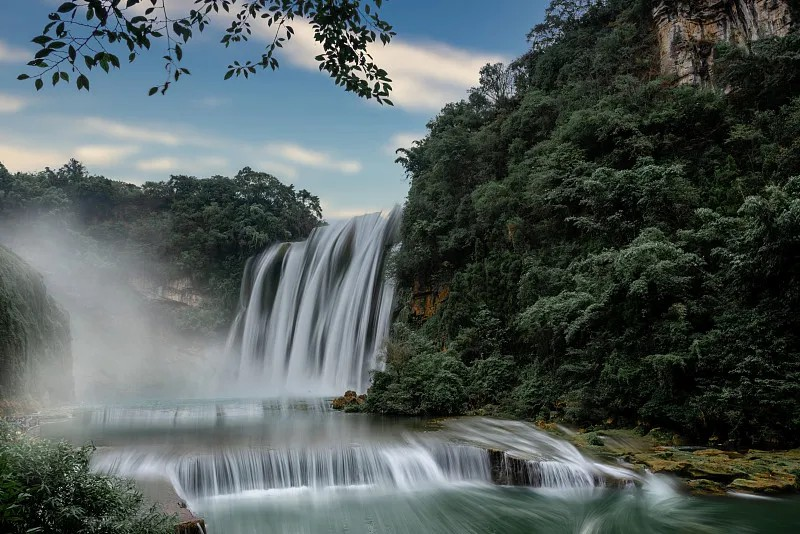Huangguoshu: (227, 207, 403, 395)
